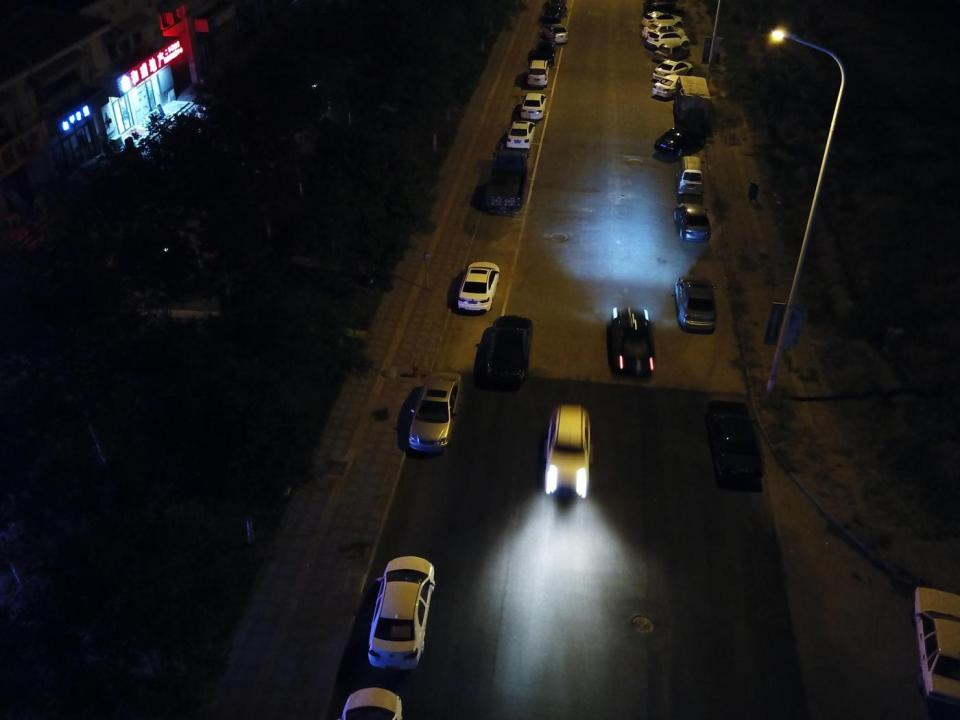car: (366, 553, 436, 672), (912, 583, 960, 707), (702, 399, 764, 492), (407, 371, 465, 456), (542, 401, 592, 495), (480, 313, 533, 389), (608, 306, 658, 378), (674, 274, 718, 334), (453, 259, 501, 312), (672, 202, 712, 243), (654, 124, 706, 155), (506, 116, 538, 153), (654, 73, 689, 99), (648, 28, 691, 48), (641, 0, 687, 18), (640, 22, 686, 40), (526, 57, 552, 88), (643, 10, 683, 30), (654, 58, 691, 78), (518, 93, 546, 119), (655, 45, 689, 63), (542, 2, 569, 24), (536, 40, 558, 66), (542, 23, 568, 44)
truck: (487, 148, 530, 217), (671, 75, 711, 129)
van: (675, 155, 705, 197)
